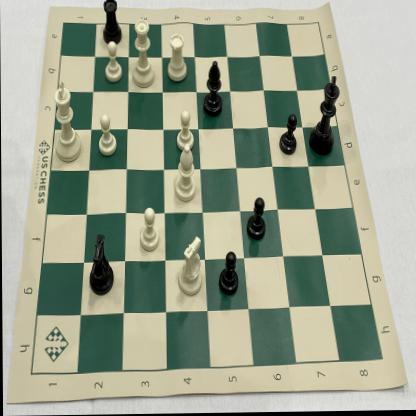black-bishop: (202, 59, 224, 121)
black-king: (306, 74, 343, 160)
black-knight: (85, 232, 120, 302)
black-pawn: (217, 246, 240, 299), (246, 194, 268, 245), (278, 111, 299, 159)
black-rook: (98, 0, 124, 51)
white-bishop: (169, 144, 198, 206)
white-king: (50, 77, 83, 165)
white-knight: (176, 232, 205, 300)
white-pawn: (99, 39, 127, 88), (136, 204, 160, 258), (96, 112, 118, 160), (173, 107, 196, 152)
white-queen: (130, 15, 157, 91)
white-rook: (164, 31, 190, 85)
